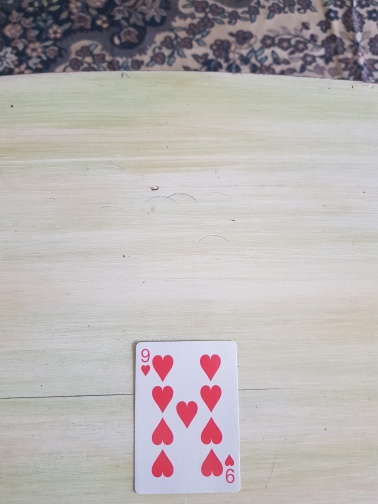nine: (133, 340, 243, 496)
